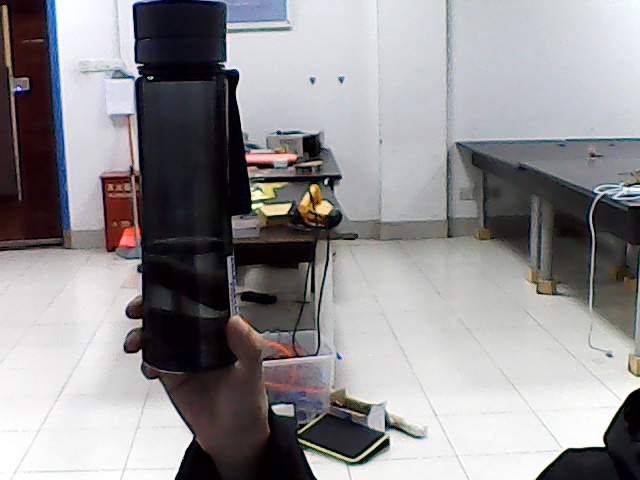cup: (139, 8, 228, 365)
